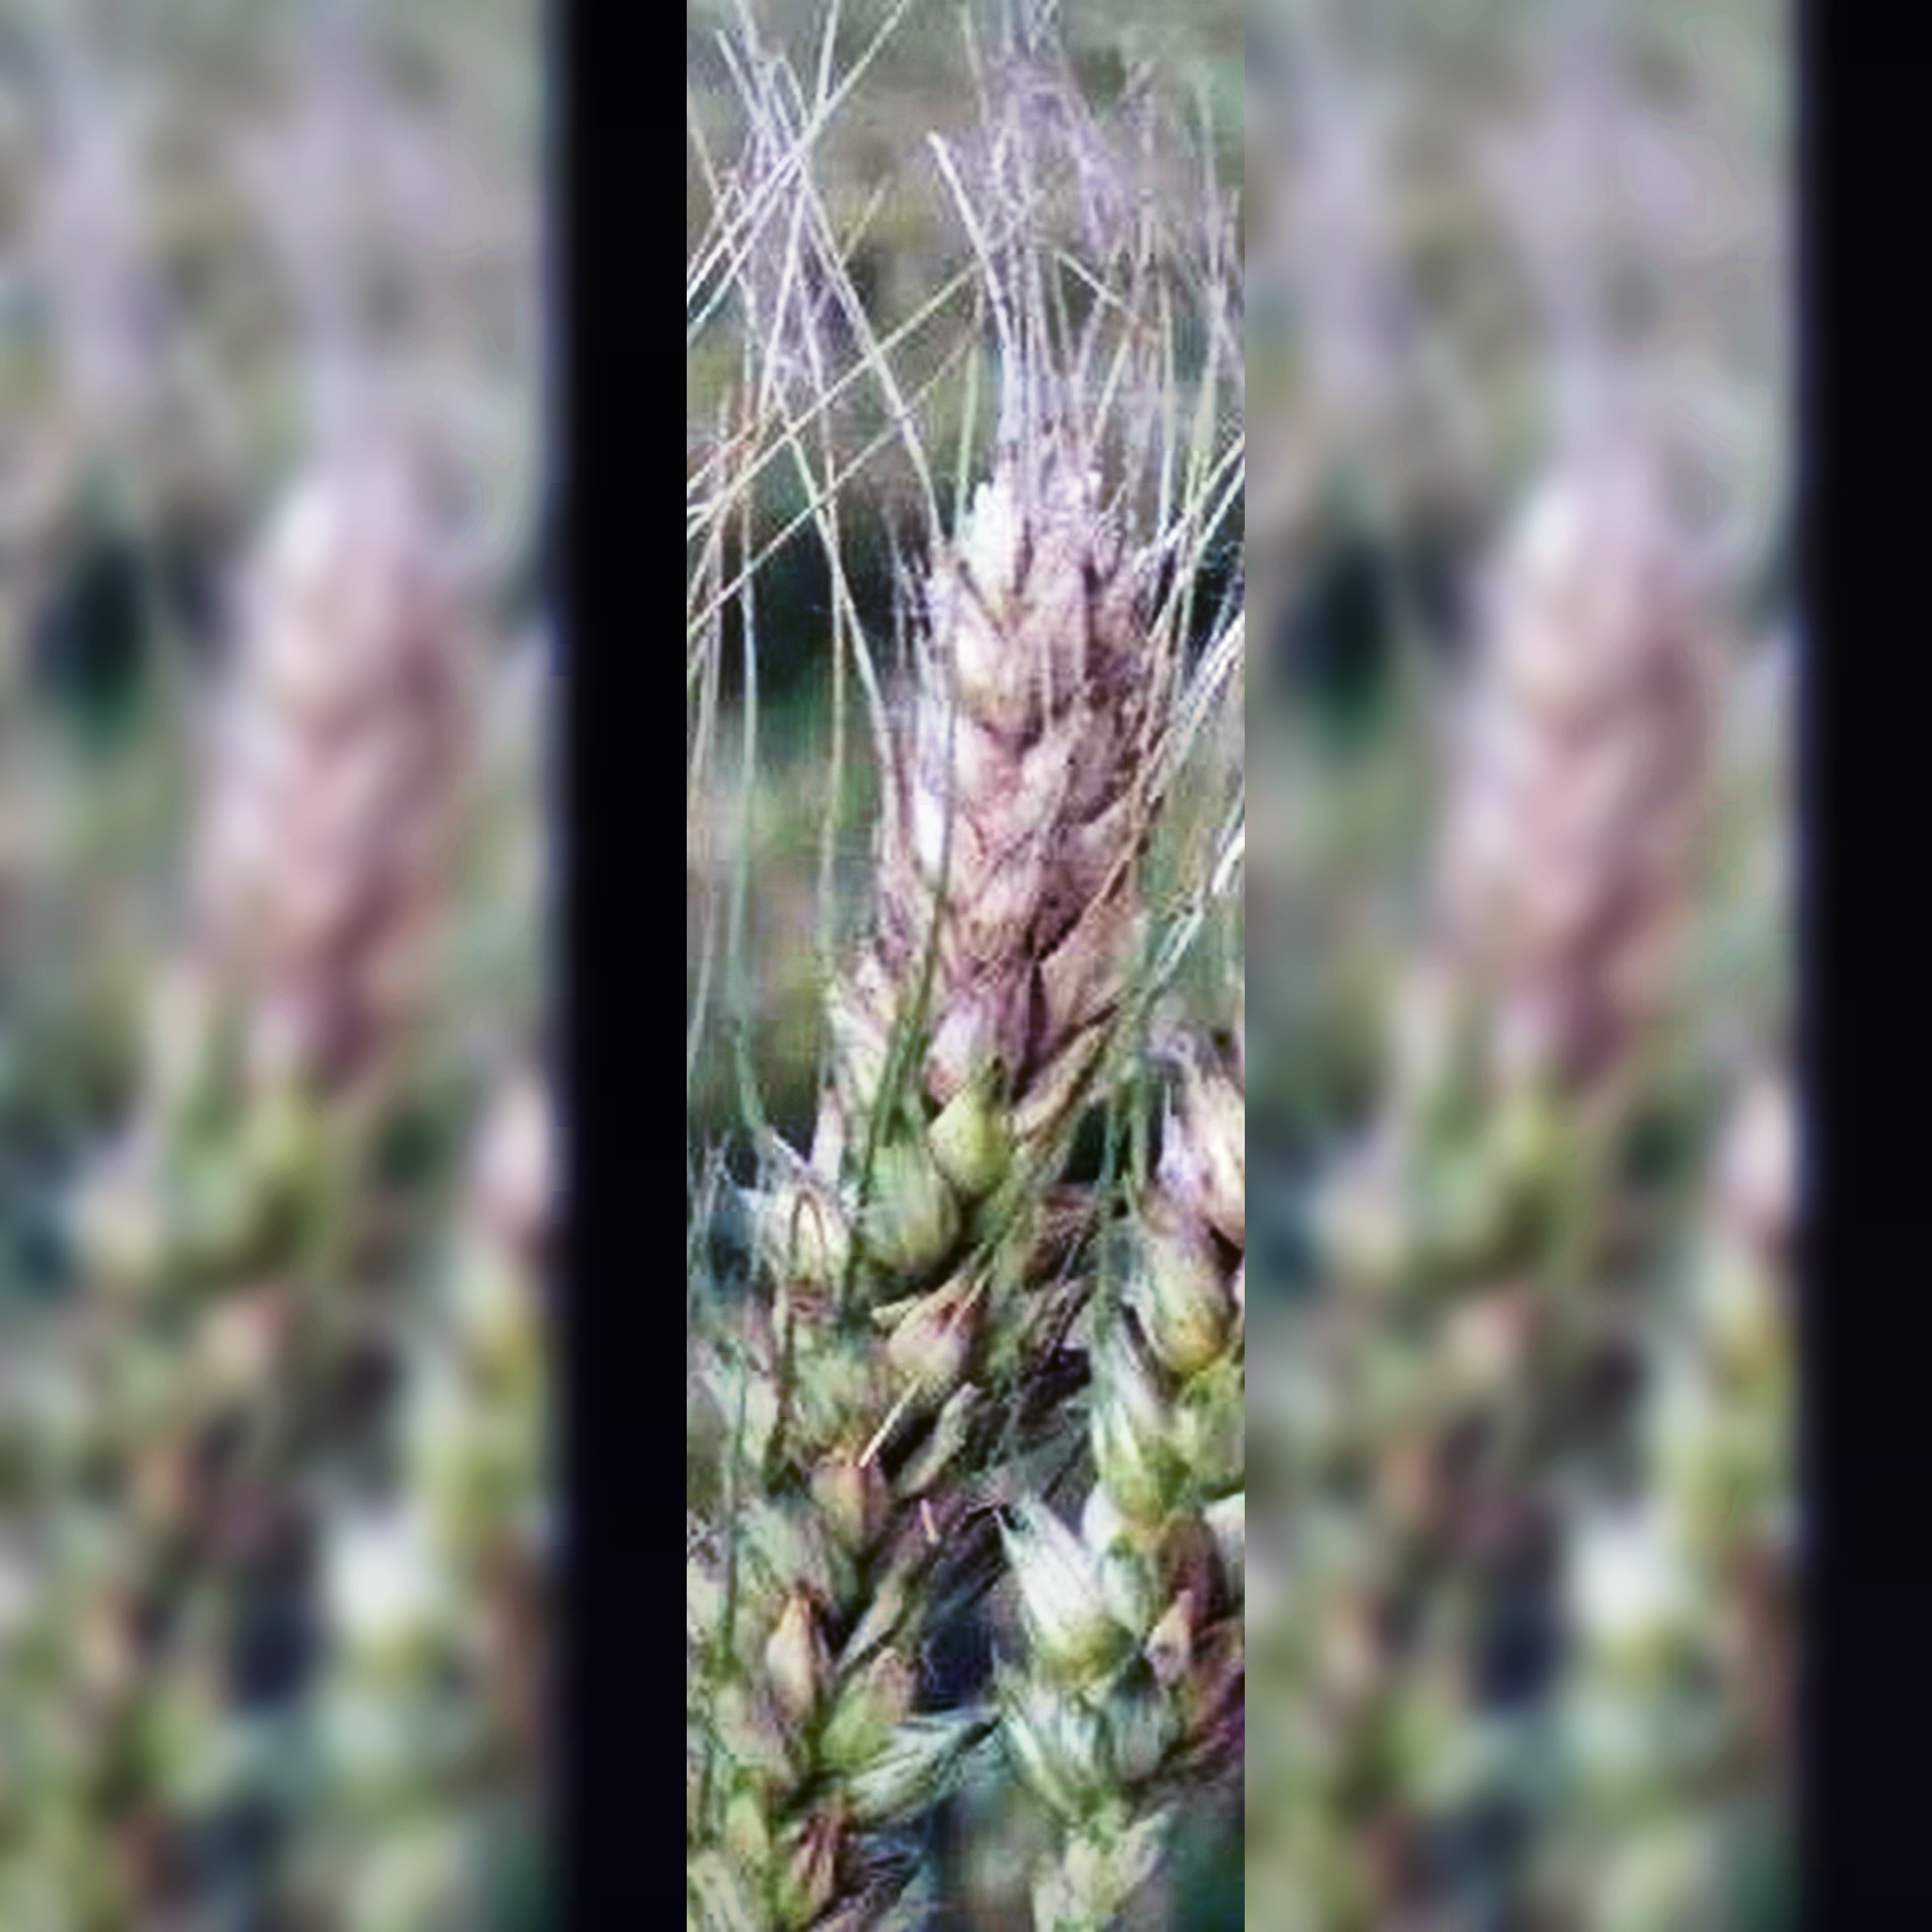Wheat scab: (685, 423, 1214, 1835)
